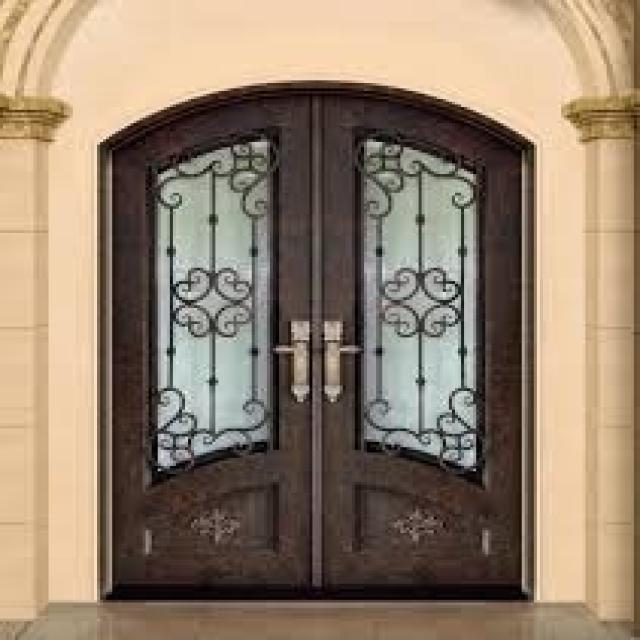door: (98, 79, 536, 601)
